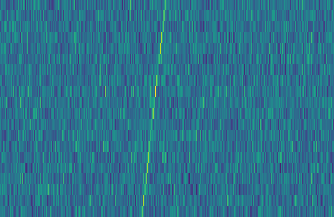signal: (137, 0, 170, 217)
